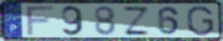6: (157, 6, 182, 36)
8: (92, 5, 117, 37)
9: (60, 4, 85, 37)
F: (25, 4, 57, 37)
G: (186, 5, 216, 37)
Z: (121, 6, 152, 37)
